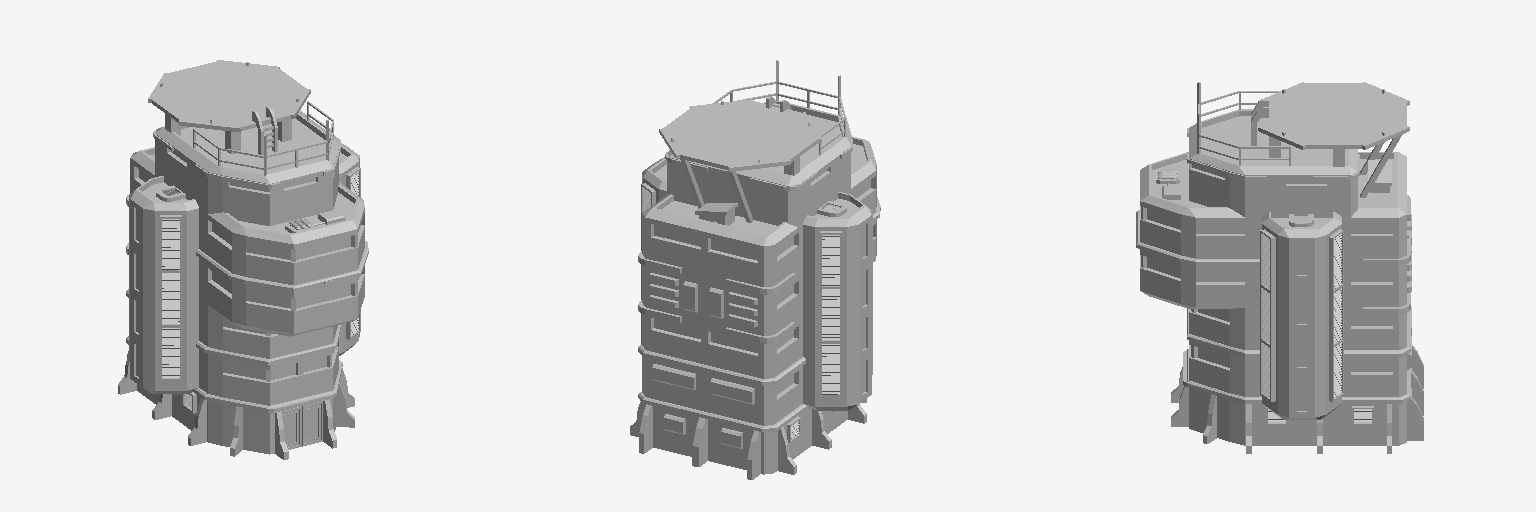
Rendered from High building_2_.obj.
The picture shows the model from 3 angles: view 1: azimuth 30°, elevation 25°; view 2: azimuth 150°, elevation 25°; view 3: azimuth 270°, elevation 25°; orthographic projection.
Visible parts, largest first — view 1: Cube.060_Cube.111; view 2: Cube.060_Cube.111; view 3: Cube.060_Cube.111.
Boxes of the visible parts, x1=… form: Cube.060_Cube.111: x1=118, y1=60, x2=368, y2=459; Cube.060_Cube.111: x1=630, y1=60, x2=880, y2=479; Cube.060_Cube.111: x1=1136, y1=82, x2=1423, y2=453.
Bounding box in the file's own units: 3.8 × 5.3 × 4.39.